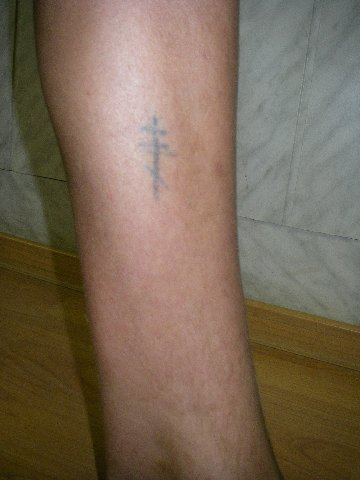tatu9_krest: (136, 96, 183, 205)
